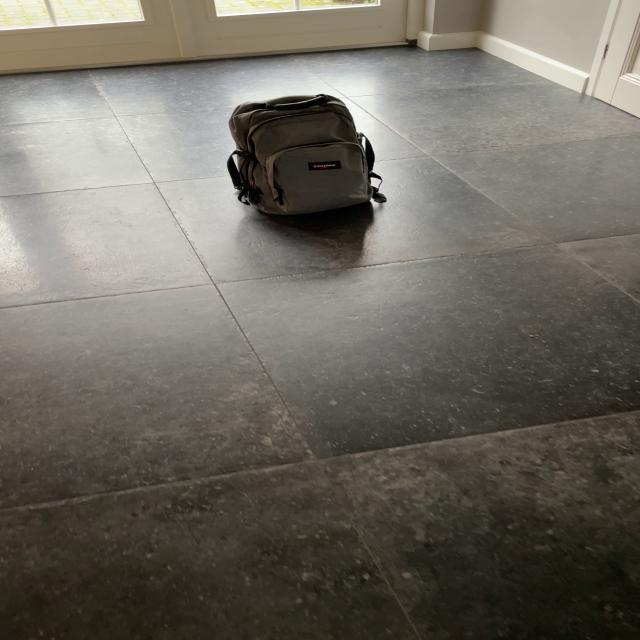backpack: (218, 87, 382, 220)
